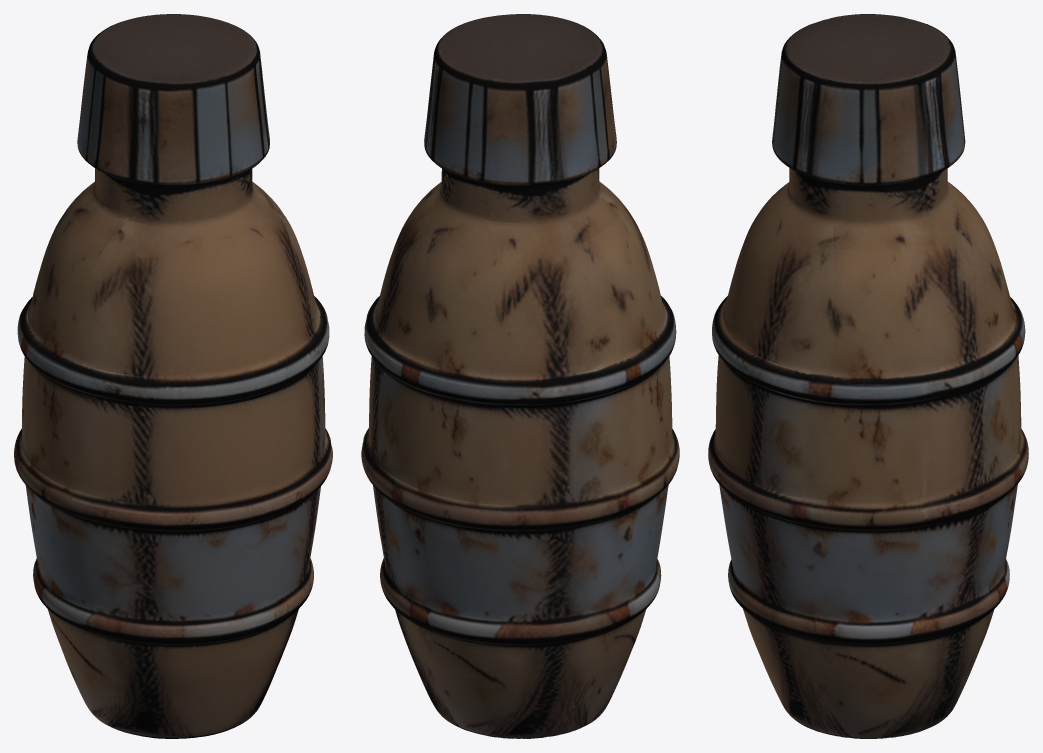
File: catalog-field-throw-8.glb
3 views of the same model, side by side, from view 1: azimuth 30°, elevation 25°; view 2: azimuth 150°, elevation 25°; view 3: azimuth 270°, elevation 25° (orthographic).
Visible parts, largest first — view 1: tmpe4x955r_.ply; view 2: tmpe4x955r_.ply; view 3: tmpe4x955r_.ply.
Part boxes in pixels (x1=…): tmpe4x955r_.ply: x1=14, y1=14, x2=332, y2=738; tmpe4x955r_.ply: x1=361, y1=14, x2=679, y2=738; tmpe4x955r_.ply: x1=708, y1=14, x2=1028, y2=738.
Size of the model in its own units: 0.8592 by 1.96 by 0.8635.
1 material, 1 textured.
